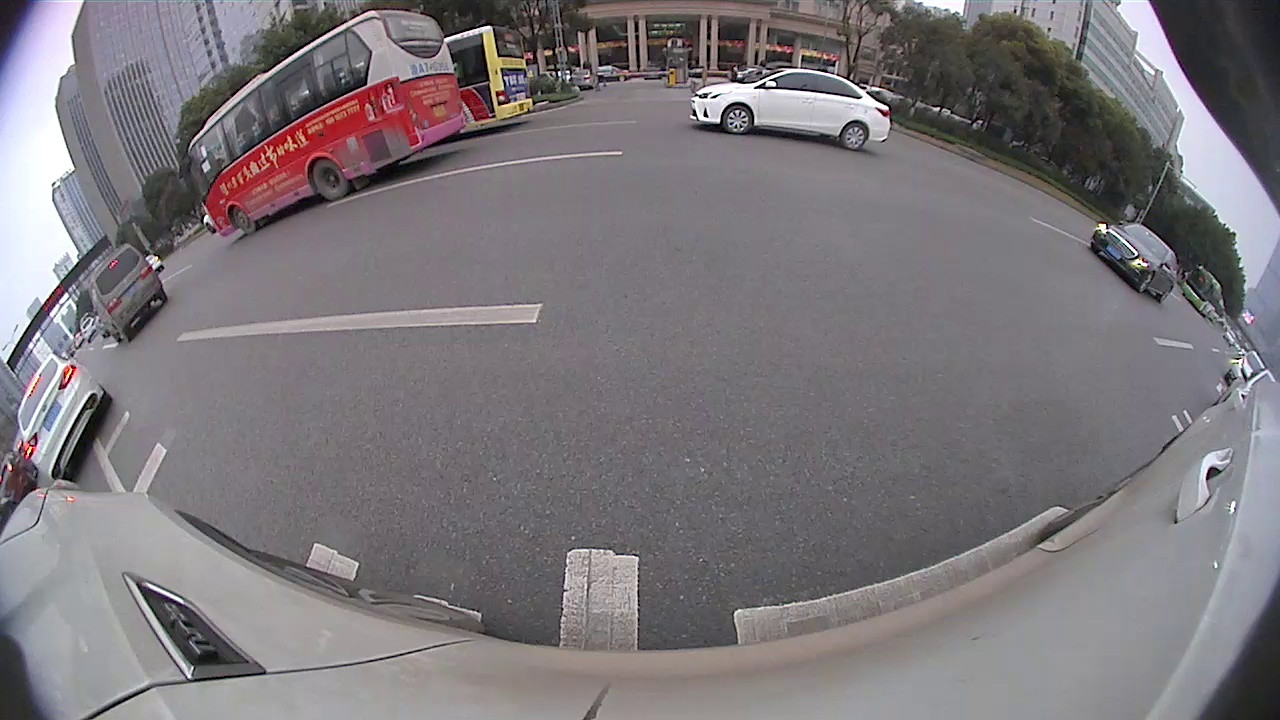bus: (188, 13, 464, 234), (442, 28, 536, 131)
car: (688, 69, 890, 149), (18, 355, 115, 486), (90, 245, 169, 341), (1089, 223, 1179, 303)
front: (723, 103, 753, 135), (230, 205, 256, 235), (1138, 270, 1157, 292)
rear: (309, 157, 348, 200), (841, 121, 868, 149)
